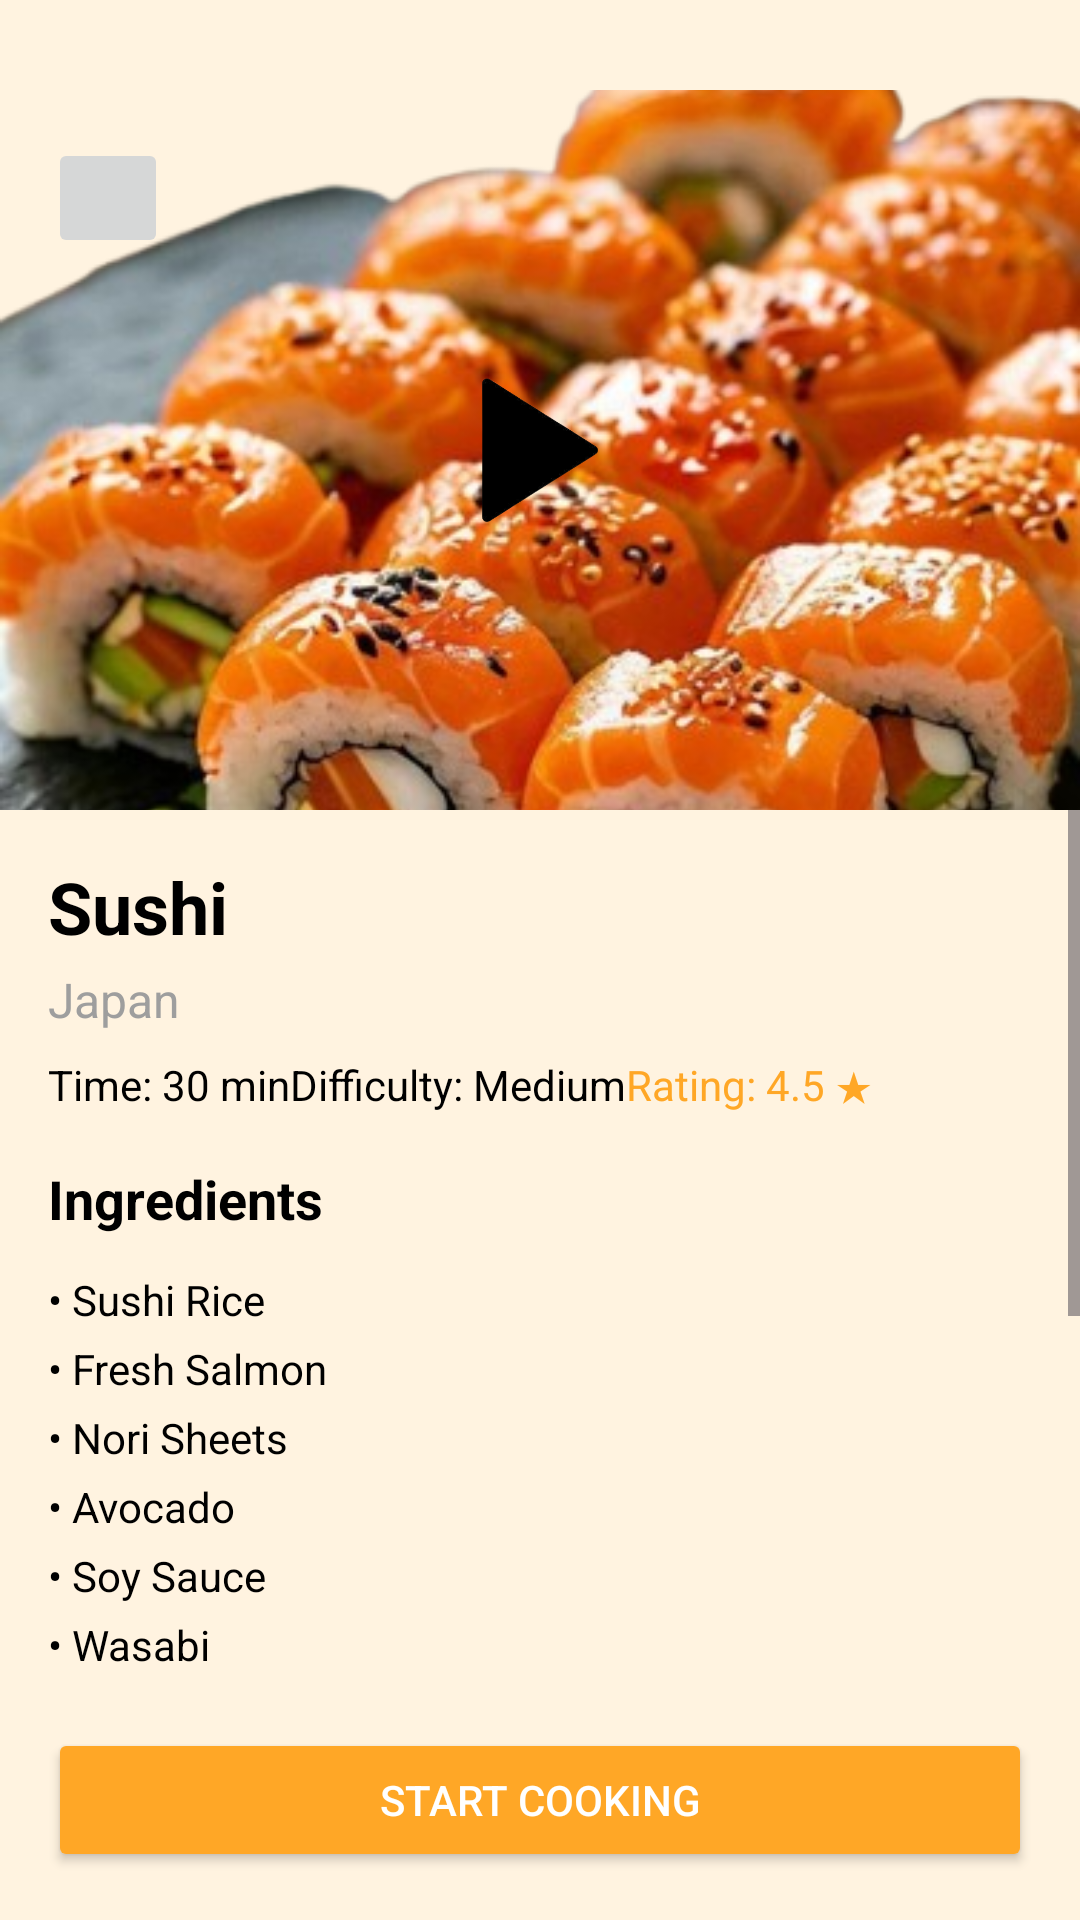

Point at icon controls on the screen. Image size 1080px x 1920px, points as (x,y).
play: (540,450)
